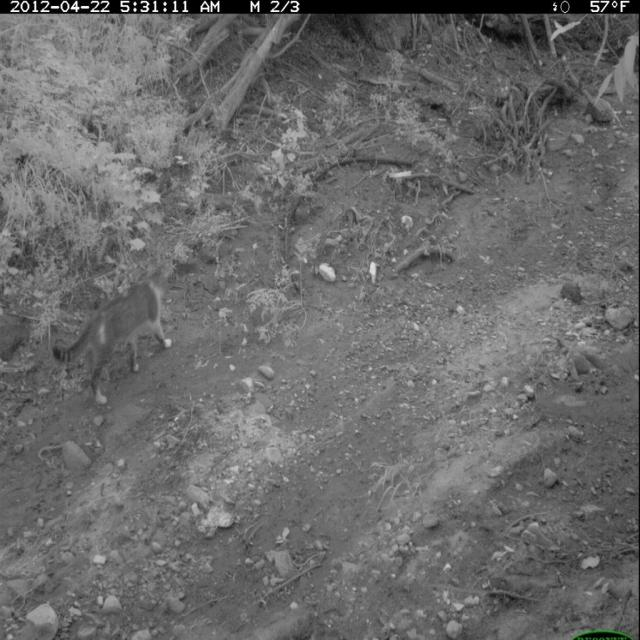cat: (50, 256, 185, 419)
